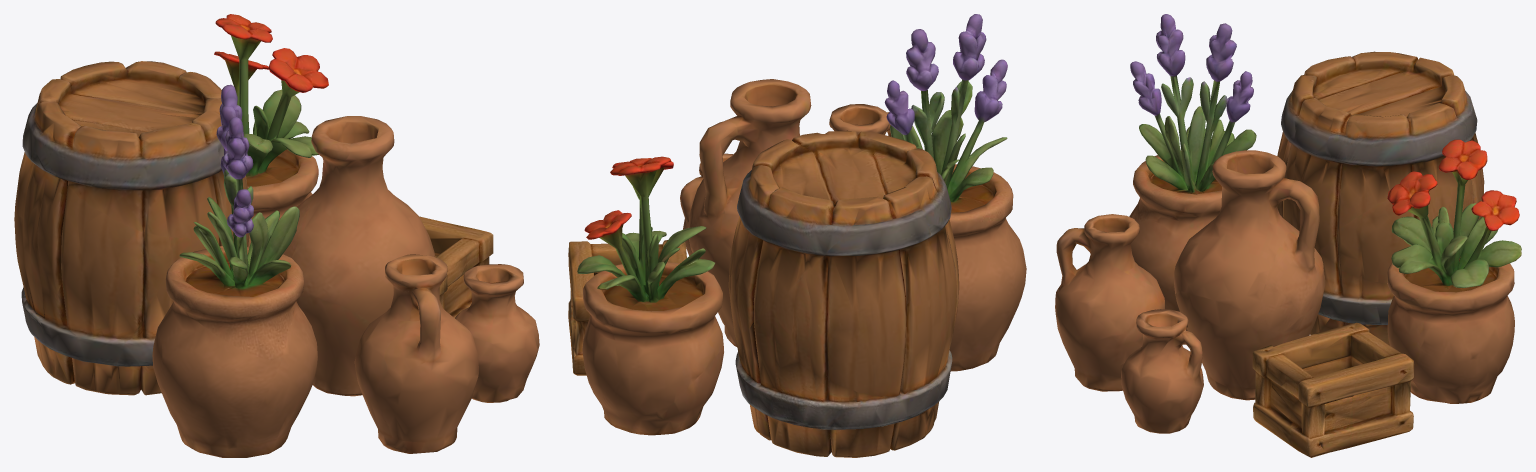
The model's file is props.glb.
3 renders of one model, left to right at view 1: azimuth 30°, elevation 25°; view 2: azimuth 150°, elevation 25°; view 3: azimuth 270°, elevation 25°, orthographic. The views are drawn at different scales.
Parts seen in each view (by area): view 1: tripo_node_45f5344d-45b9-412f-96b6-dfd855abb9e0; view 2: tripo_node_45f5344d-45b9-412f-96b6-dfd855abb9e0; view 3: tripo_node_45f5344d-45b9-412f-96b6-dfd855abb9e0.
Part boxes in pixels (x1,y1,x2,y2): tripo_node_45f5344d-45b9-412f-96b6-dfd855abb9e0: (14, 14, 539, 457); tripo_node_45f5344d-45b9-412f-96b6-dfd855abb9e0: (568, 14, 1026, 457); tripo_node_45f5344d-45b9-412f-96b6-dfd855abb9e0: (1055, 14, 1521, 457).
Size of the model in its own units: 0.9306 by 0.7078 by 0.9993.
1 material, 1 textured.
